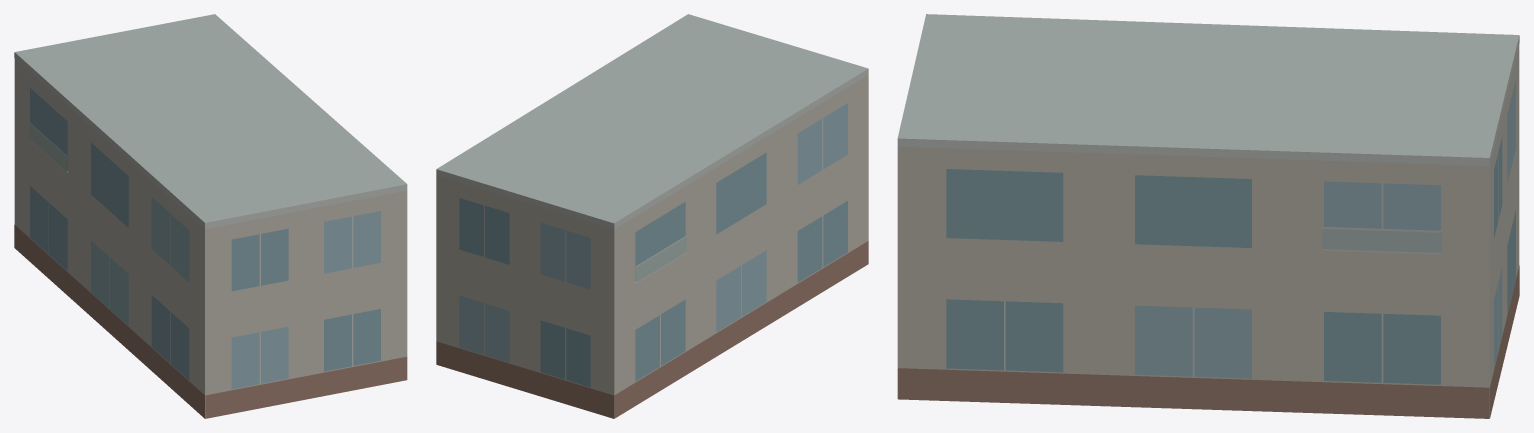
Rendered from survey-upis-32769469.glb.
3 renders of one model, left to right at view 1: azimuth 30°, elevation 25°; view 2: azimuth 150°, elevation 25°; view 3: azimuth 270°, elevation 25°, orthographic. The views are drawn at different scales.
Parts seen in each view (by area): view 1: survey-upis-32769469.tmp; view 2: survey-upis-32769469.tmp; view 3: survey-upis-32769469.tmp.
Boxes of the visible parts, x1,y1,x2,y2 form: survey-upis-32769469.tmp: (14,14,407,418); survey-upis-32769469.tmp: (436,14,868,418); survey-upis-32769469.tmp: (897,14,1519,418).
Size of the model in its own units: 9.25 by 7.8 by 16.87.
